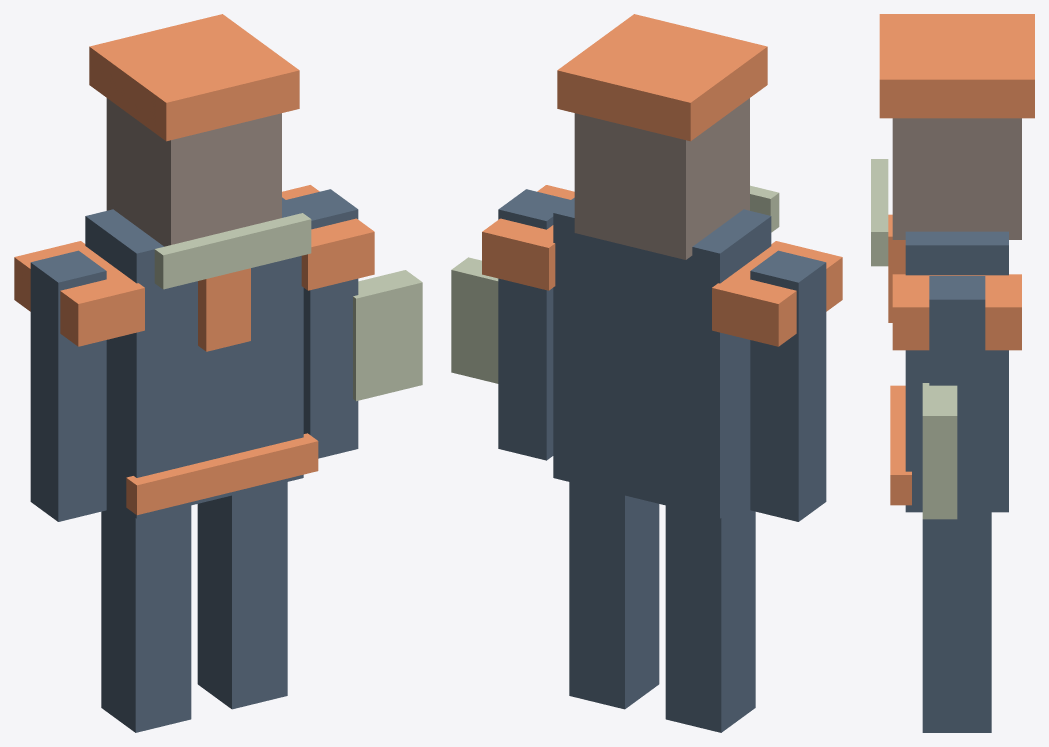
The model's file is 10_asha_chromabell_runner_under_vehicle.glb.
3 renders of one model, left to right at view 1: azimuth 30°, elevation 25°; view 2: azimuth 150°, elevation 25°; view 3: azimuth 270°, elevation 25°, orthographic.
Visible parts, largest first — view 1: Asha Chromabell, Runner under Vehicle; view 2: Asha Chromabell, Runner under Vehicle; view 3: Asha Chromabell, Runner under Vehicle.
Part boxes in pixels (x1=…): Asha Chromabell, Runner under Vehicle: x1=14, y1=14, x2=422, y2=732; Asha Chromabell, Runner under Vehicle: x1=451, y1=14, x2=842, y2=732; Asha Chromabell, Runner under Vehicle: x1=871, y1=14, x2=1034, y2=732.
Size of the model in its own units: 0.929 by 1.58 by 0.3621.
